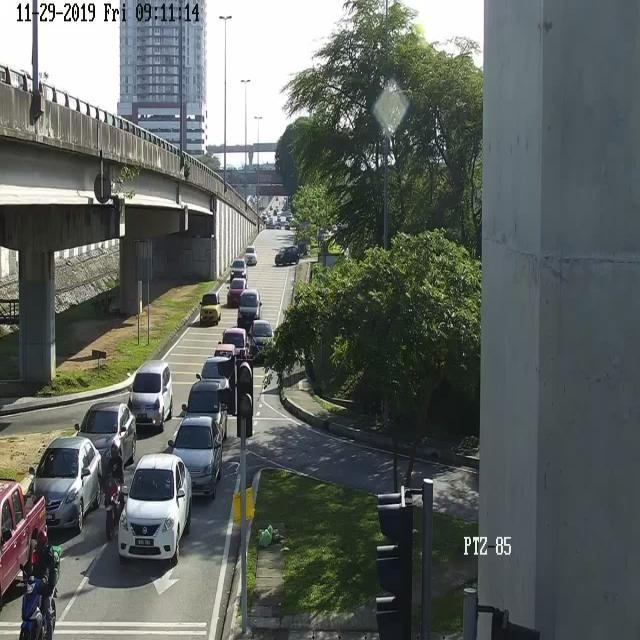Motorcycle: (17, 539, 63, 640), (98, 436, 130, 549)
